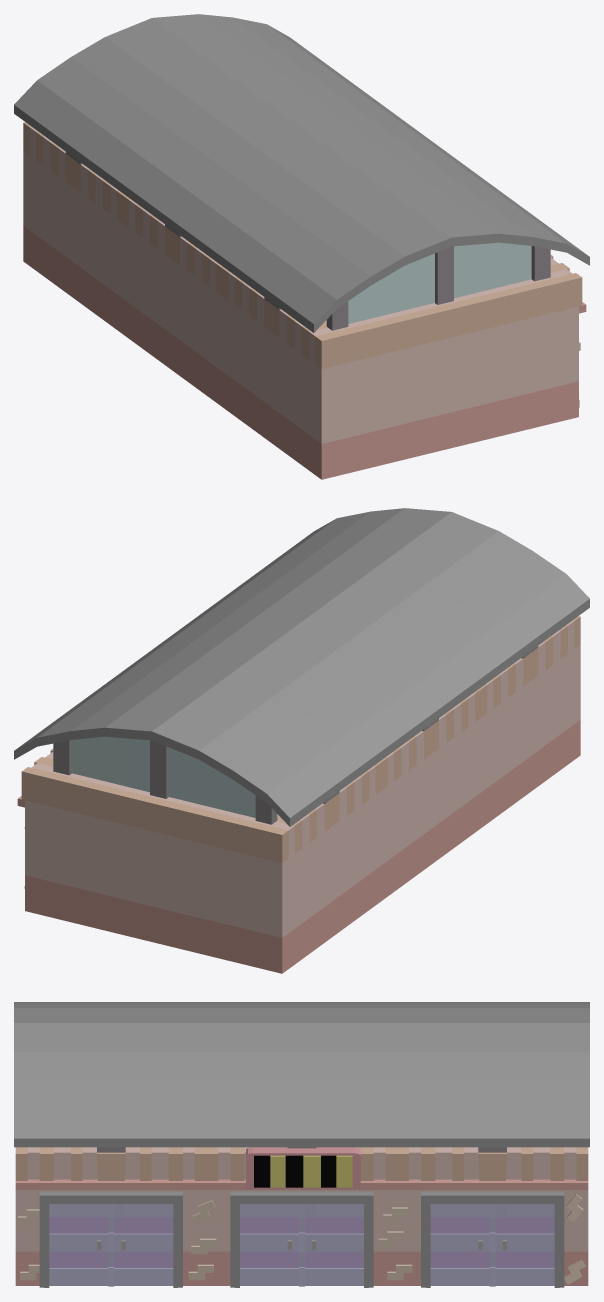
Rendered from warehouse.fbx.
The picture shows the model from 3 angles, top to bottom: view 1: azimuth 30°, elevation 25°; view 2: azimuth 150°, elevation 25°; view 3: azimuth 270°, elevation 25°; orthographic projection. The views are drawn at different scales.
Parts seen in each view (by area): view 1: WaarenHuis; view 2: WaarenHuis; view 3: WaarenHuis.
Boxes of the visible parts, x1,y1,x2,y2 form: WaarenHuis: (14, 14, 589, 479); WaarenHuis: (14, 508, 589, 973); WaarenHuis: (14, 1002, 589, 1287).
Bounding box in the file's own units: 10.36 × 7.52 × 19.35.
